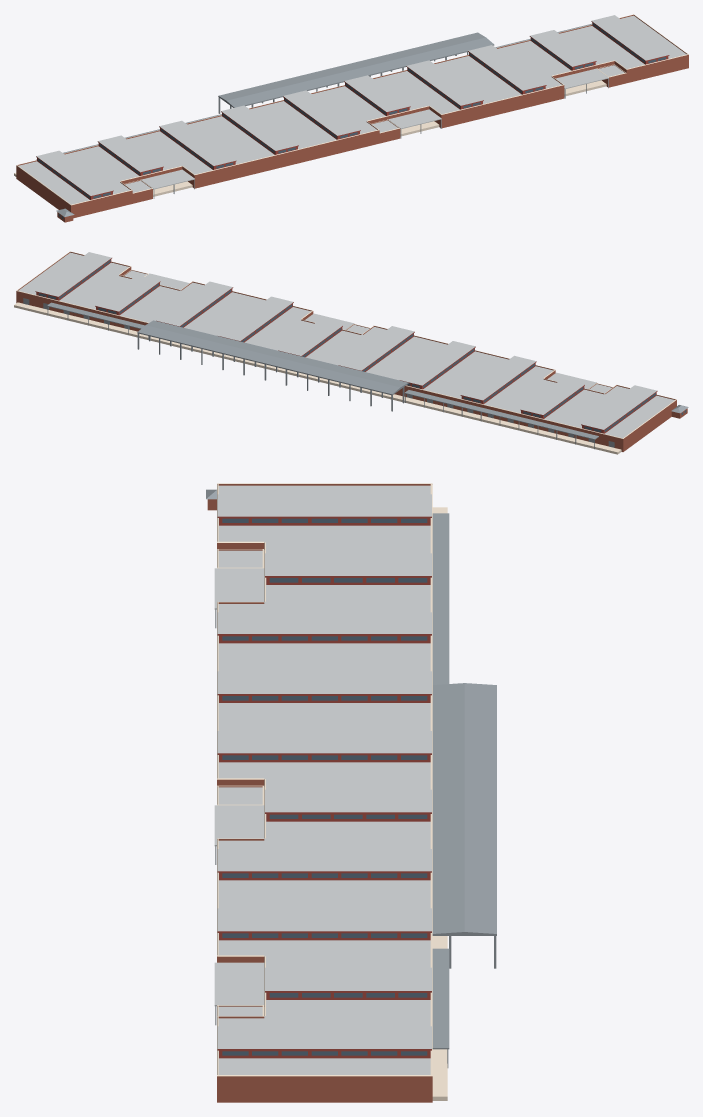
The model's file is clt-cne-hercules-south.glb.
3 renders of one model, top to bottom at view 1: azimuth 30°, elevation 25°; view 2: azimuth 150°, elevation 25°; view 3: azimuth 270°, elevation 25°, orthographic. The views are drawn at different scales.
Parts seen in each view (by area): view 1: Hercules South, Camp North End; view 2: Hercules South, Camp North End; view 3: Hercules South, Camp North End.
Part boxes in pixels (x1,y1,x2,y2): Hercules South, Camp North End: (14, 14, 688, 222); Hercules South, Camp North End: (14, 251, 688, 454); Hercules South, Camp North End: (206, 483, 496, 1102).
Bounding box in the file's own units: 372 × 10.6 × 76.2.
